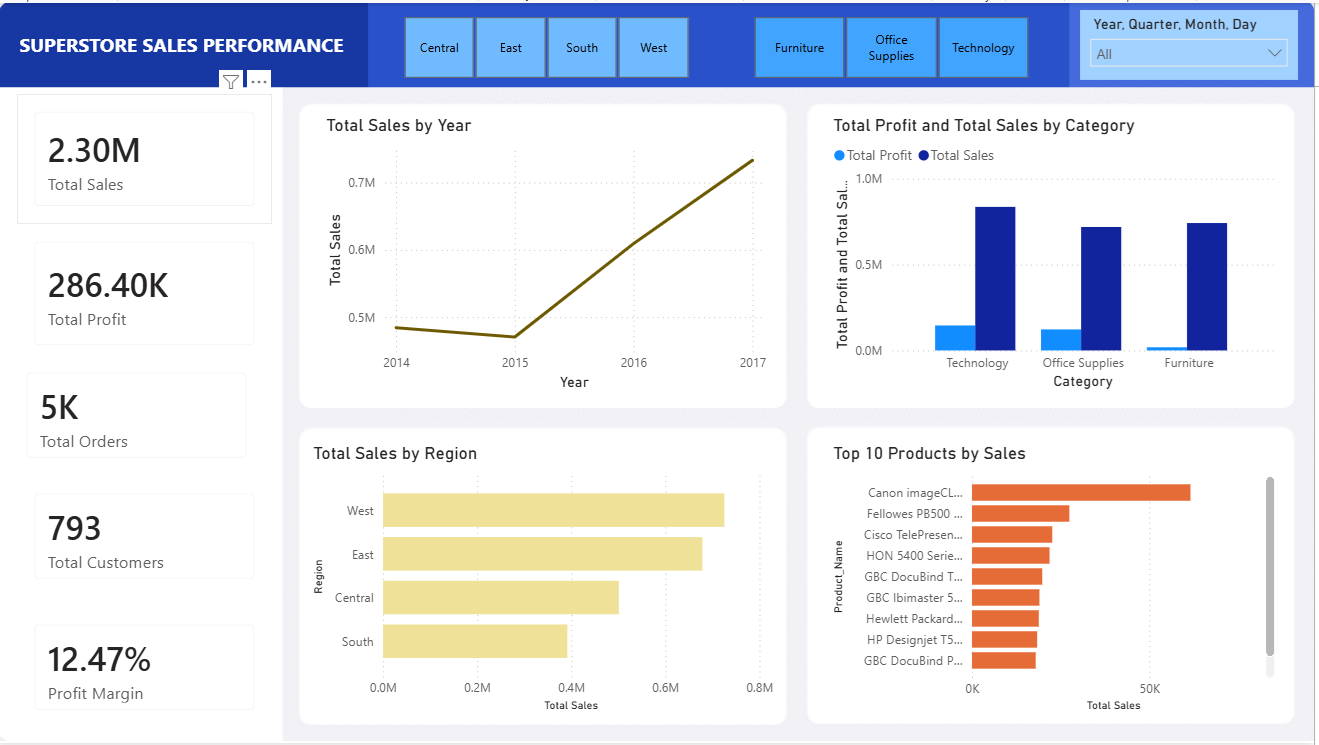

Layout of this report page (visuals, bound fields, positions):
{"tool":"powerbi","page":{"name":"Page 1","canvas":[1280,720],"ordinal":0},"visuals":[{"type":"cardVisual","fields":{"Data":["Orders.Total Sales"]},"box":[18.5,88.5,248,126.4],"z":0},{"type":"cardVisual","fields":{"Data":["Orders.Total Profit"]},"box":[18.5,215,248,135.2],"z":1000},{"type":"cardVisual","fields":{"Data":["Orders.Total Orders"]},"box":[10.7,342.4,248,117.7],"z":2000},{"type":"cardVisual","fields":{"Data":["Orders.Total Customers"]},"box":[18.5,460.1,248,117.7],"z":3000},{"type":"cardVisual","fields":{"Data":["Orders.Profit Margin"]},"box":[18.5,587.5,248,117.7],"z":4000},{"type":"lineChart","fields":{"Category":["Orders.Order_Date.Variation.Date Hierarchy.Year","Orders.Order_Date.Variation.Date Hierarchy.Quarter","Orders.Order_Date.Variation.Date Hierarchy.Month","Orders.Order_Date.Variation.Date Hierarchy.Day"],"Y":["Orders.Total Sales"]},"box":[314.2,108.9,437.7,272.3],"z":5000},{"type":"clusteredBarChart","fields":{"Category":["Orders.Region"],"Y":["Orders.Total Sales"]},"box":[301.5,428,458.1,265.5],"z":6000},{"type":"clusteredColumnChart","fields":{"Category":["Orders.Category"],"Y":["Orders.Total Profit","Orders.Total Sales"]},"box":[807.3,108.9,438.7,272.3],"z":7000},{"type":"barChart","title":"Top 10 Products by Sales","fields":{"Category":["Orders.Product_Name"],"Y":["Orders.Total Sales"]},"box":[807,428,439,266],"z":8000},{"type":"slicer","fields":{"Values":["Orders.Region"]},"box":[369.6,6.8,325.8,72.9],"z":9000},{"type":"slicer","fields":{"Values":["Orders.Order_Date.Variation.Date Hierarchy.Year","Orders.Order_Date.Variation.Date Hierarchy.Quarter","Orders.Order_Date.Variation.Date Hierarchy.Month","Orders.Order_Date.Variation.Date Hierarchy.Day"]},"box":[1052.4,6.8,212,68.1],"z":9001},{"type":"slicer","fields":{"Values":["Orders.Category"]},"box":[710,6.8,316.1,72.9],"z":9002},{"type":"textbox","box":[10.7,22.4,333.6,37],"z":9003}]}

Visuals, with their boxes in screenshot pixels (x1, y1, x2, y2), scaled from the page's 1280x720 canvas onto the 1319x745 screenshot:
cardVisual - Orders.Total Sales: <bbox>19, 92, 275, 222</bbox>
cardVisual - Orders.Total Profit: <bbox>19, 222, 275, 362</bbox>
cardVisual - Orders.Total Orders: <bbox>11, 354, 267, 476</bbox>
cardVisual - Orders.Total Customers: <bbox>19, 476, 275, 598</bbox>
cardVisual - Orders.Profit Margin: <bbox>19, 608, 275, 730</bbox>
lineChart - Orders.Order_Date.Variation.Date Hierarchy.Year x Orders.Order_Date.Variation.Date Hierarchy.Quarter: <bbox>324, 113, 775, 394</bbox>
clusteredBarChart - Orders.Region x Orders.Total Sales: <bbox>311, 443, 783, 718</bbox>
clusteredColumnChart - Orders.Category x Orders.Total Profit: <bbox>832, 113, 1284, 394</bbox>
"Top 10 Products by Sales" barChart: <bbox>832, 443, 1284, 718</bbox>
slicer - Orders.Region: <bbox>381, 7, 717, 82</bbox>
slicer - Orders.Order_Date.Variation.Date Hierarchy.Year x Orders.Order_Date.Variation.Date Hierarchy.Quarter: <bbox>1084, 7, 1303, 78</bbox>
slicer - Orders.Category: <bbox>732, 7, 1057, 82</bbox>
textbox: <bbox>11, 23, 355, 61</bbox>
